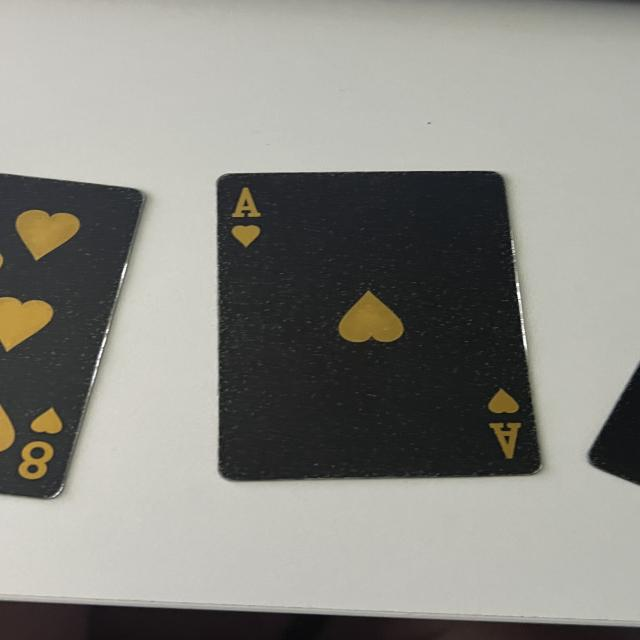8H: (13, 402, 68, 483)
AH: (476, 386, 529, 466), (218, 181, 273, 252)
